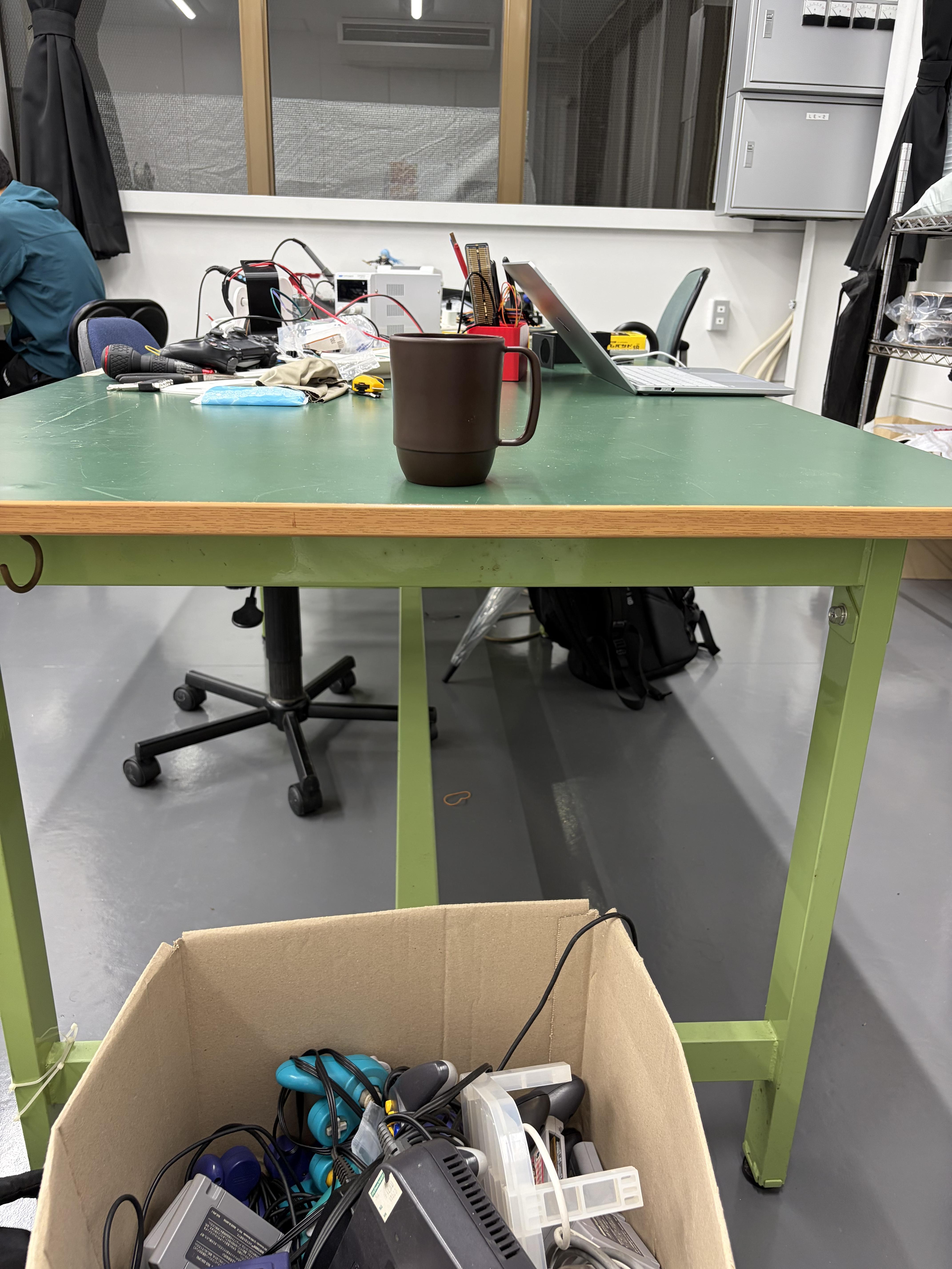mug-real100-3d100: (390, 333, 541, 487)
